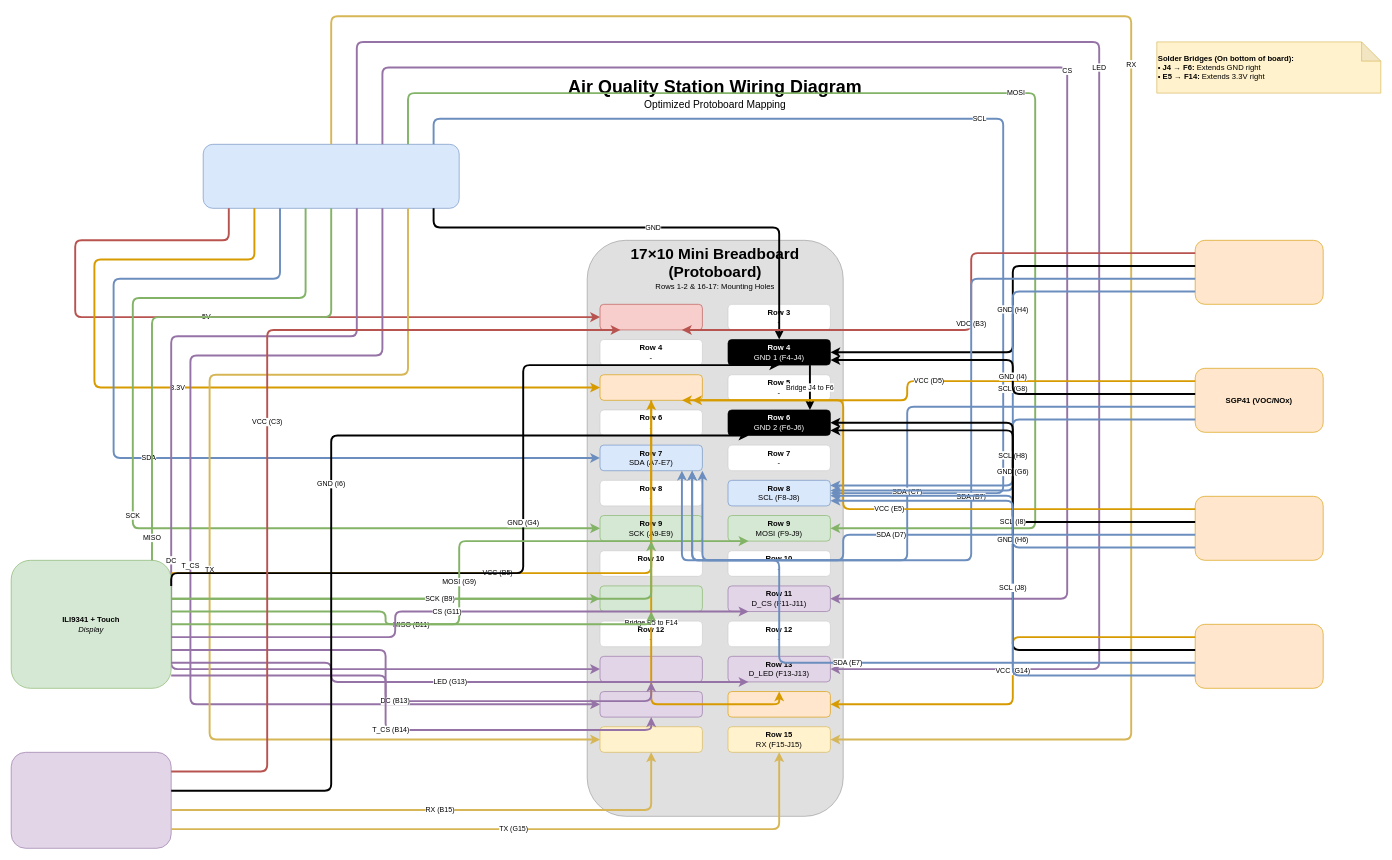
Image size: 1392x860. Some labels were removed from this diagram. The shapes that lost their labels are listed below. From the top down, each one's box as (x1, y1, x2, y2) in pixels, then its label:
(203, 144, 459, 208): XIAO ESP32-S3 MCU
(1195, 240, 1323, 304): SPS30 (PM)
(599, 304, 702, 330): Row 3 5V (A3-E3)
(599, 374, 702, 400): Row 5 3.3V 1 (A5-E5)
(1195, 496, 1323, 560): VEML7700 (Light)
(599, 585, 702, 612): Row 11 MISO (A11-E11)
(599, 656, 702, 682): Row 13 D_DC (A13-E13)
(1195, 624, 1323, 688): SHT41 (Temp/Hum)
(599, 691, 702, 717): Row 14 T_CS (A14-E14)
(727, 691, 830, 717): Row 14 3.3V 2 (F14-J14)
(599, 726, 702, 752): Row 15 TX (A15-E15)
(11, 752, 171, 848): LD2412 mmWave Radar
